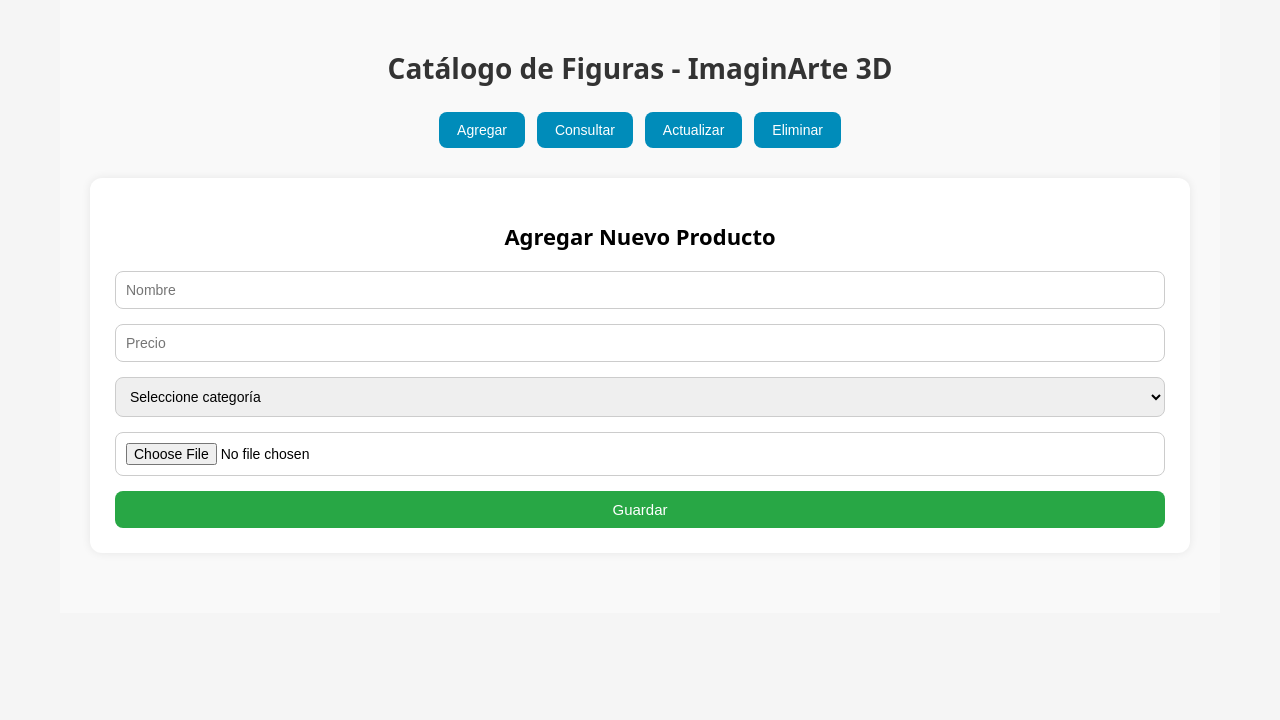
Test: CatalogoFiguras › Renderiza mensaje de éxito al actualizar
Click the button "Consultar": (585, 130) [537,112,633,148]
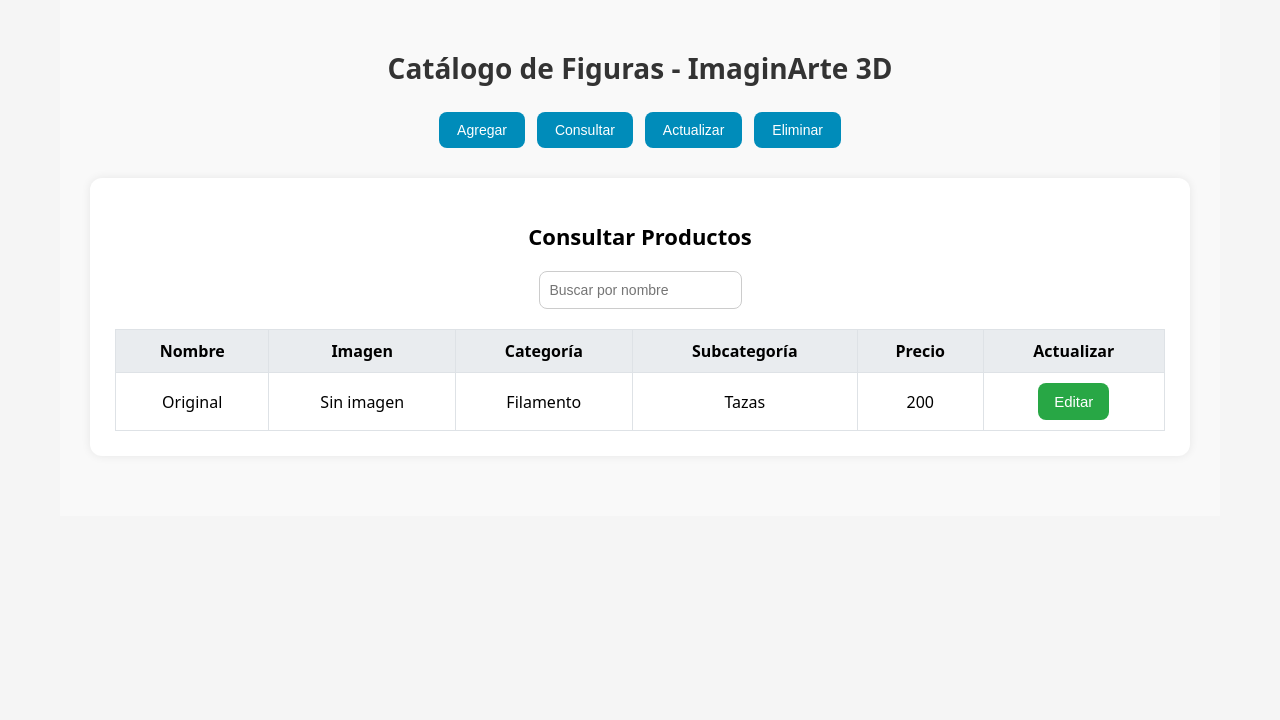
Expected: the text "Original" is shown, [116,372,269,430]
Click the button "Editar": (1074, 402) [1038,383,1109,420]
(page scrolled)
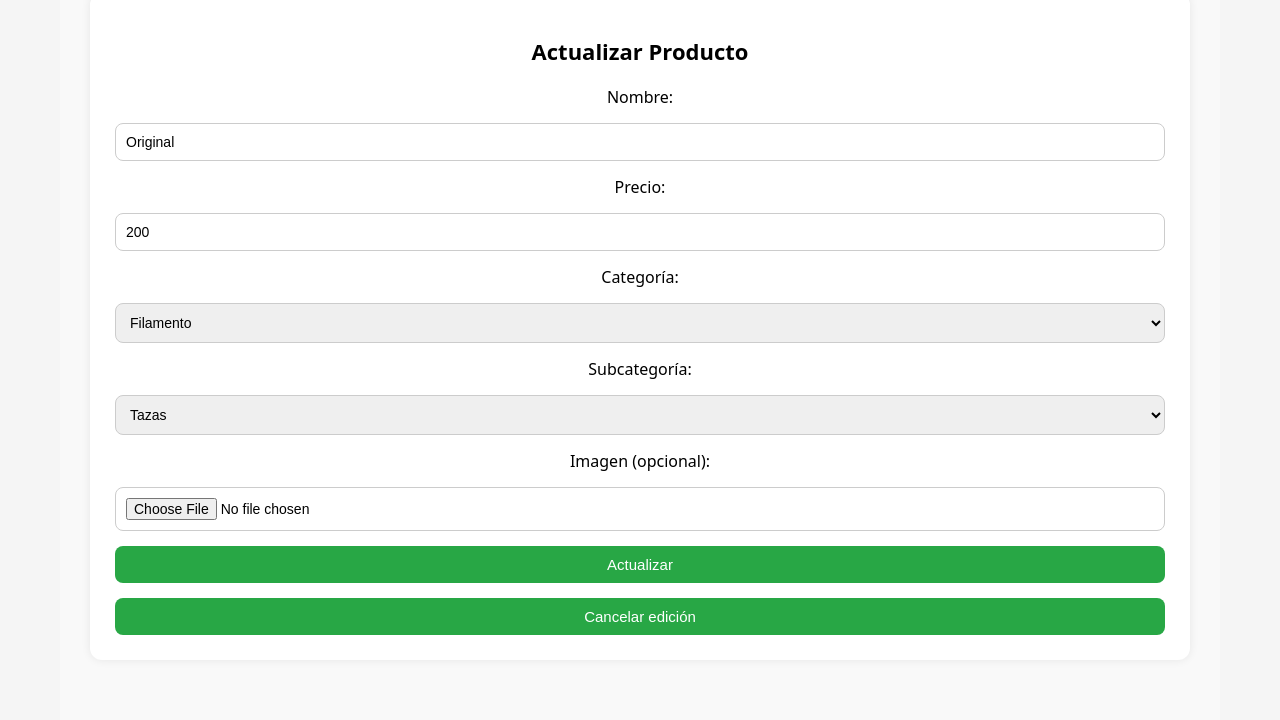
Expected: the heading "Actualizar Producto" is shown, [532,36,748,66]
Click the button "Actualizar": (640, 564) [115,546,1165,583]
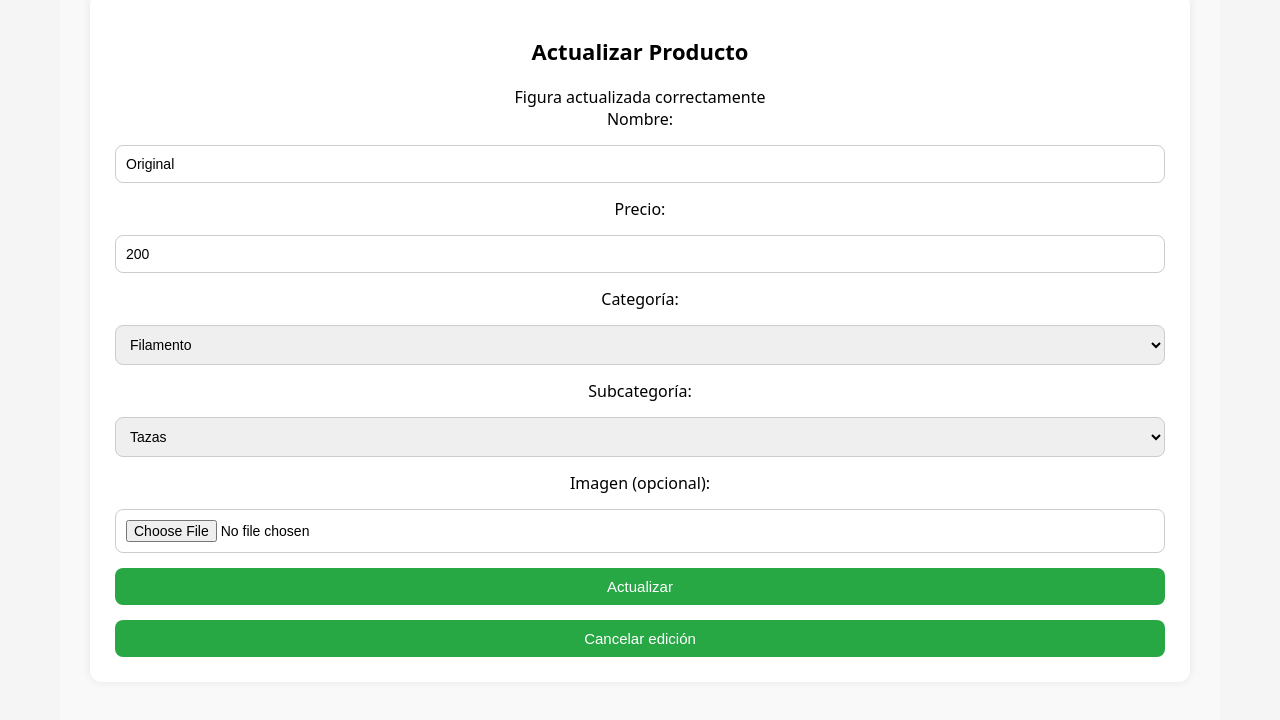
Expected: the message reads "Figura actualizada correctamente", [514,86,766,108]
